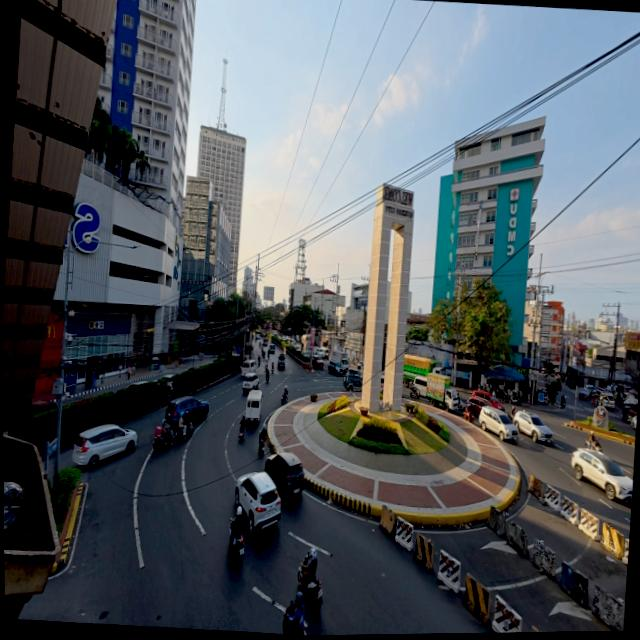car: (571, 449, 632, 501), (71, 425, 136, 469), (235, 472, 280, 533), (264, 452, 304, 496), (478, 407, 517, 441), (512, 411, 552, 443), (165, 397, 208, 425), (472, 389, 503, 411), (466, 396, 489, 419), (30, 400, 56, 414), (343, 372, 361, 392), (158, 374, 173, 391), (327, 361, 344, 376), (126, 380, 148, 387), (311, 355, 322, 368), (277, 354, 285, 370), (301, 350, 310, 362), (629, 416, 636, 428), (324, 349, 330, 360), (357, 361, 363, 371), (262, 337, 267, 347), (269, 344, 274, 353)
motorcycle: (296, 554, 322, 609), (152, 421, 175, 451), (282, 601, 295, 634), (230, 535, 243, 564), (176, 421, 192, 440), (584, 439, 601, 452), (462, 407, 474, 424), (408, 382, 420, 398), (508, 391, 519, 404), (258, 437, 264, 455), (280, 391, 288, 404), (458, 398, 465, 412), (559, 397, 565, 409), (238, 427, 243, 441), (510, 405, 515, 416), (265, 370, 269, 383), (257, 355, 260, 367), (270, 363, 273, 373)
trucks: (418, 374, 458, 411), (402, 354, 438, 387), (329, 350, 348, 369)
vans: (244, 390, 261, 422), (242, 372, 258, 393), (413, 376, 426, 397), (599, 394, 614, 410), (241, 359, 255, 376)
